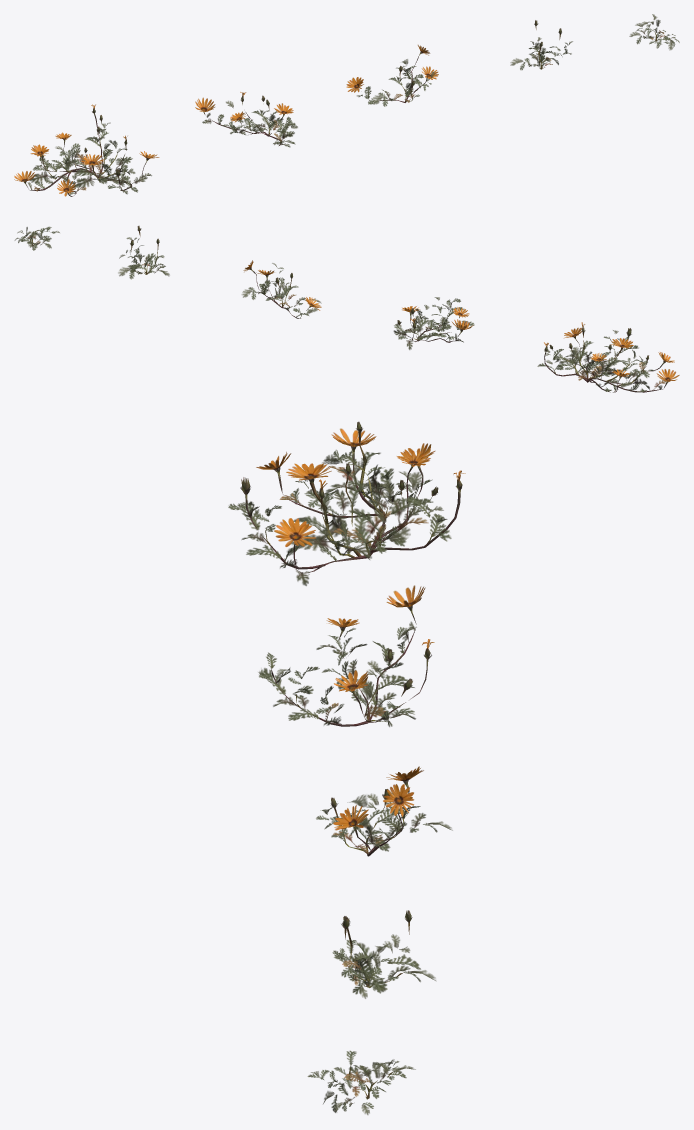
File: flower_ursinia.glb
3 renders of one model, top to bottom at view 1: azimuth 30°, elevation 25°; view 2: azimuth 150°, elevation 25°; view 3: azimuth 270°, elevation 25°, orthographic. The views are drawn at different scales.
Visible parts, largest first — view 1: flower_ursinia_a_LOD0; view 2: flower_ursinia_a_LOD0; view 3: flower_ursinia_a_LOD0.
Part boxes in pixels (<box>): flower_ursinia_a_LOD0: <box>14,14,679,196</box>; flower_ursinia_a_LOD0: <box>14,225,679,392</box>; flower_ursinia_a_LOD0: <box>228,421,465,1114</box>.
Size of the model in its own units: 2.19 by 0.1716 by 0.3432.
1 material, 1 textured.
